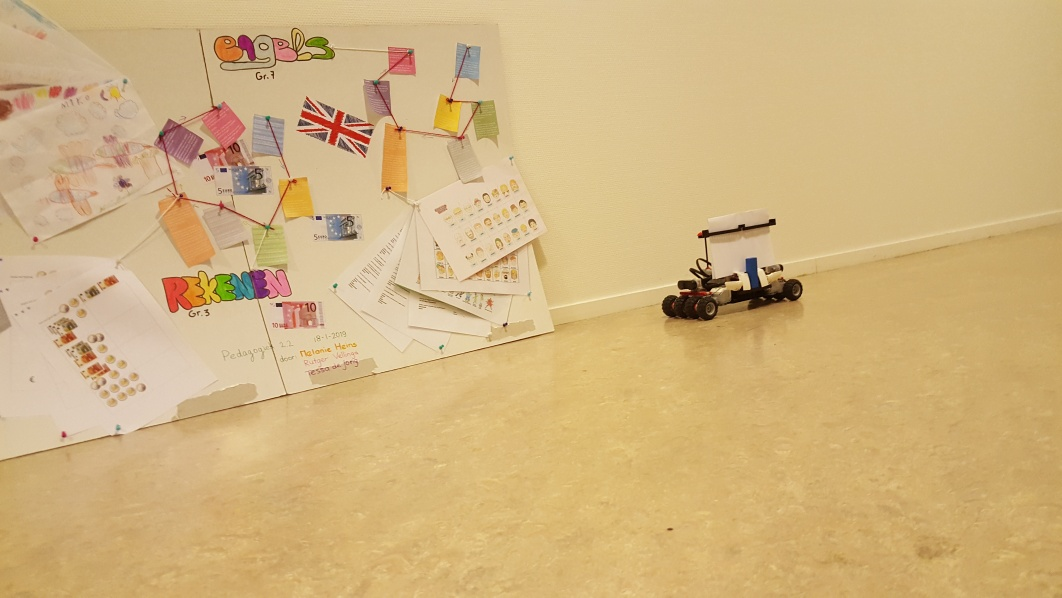car: (660, 209, 804, 318)
